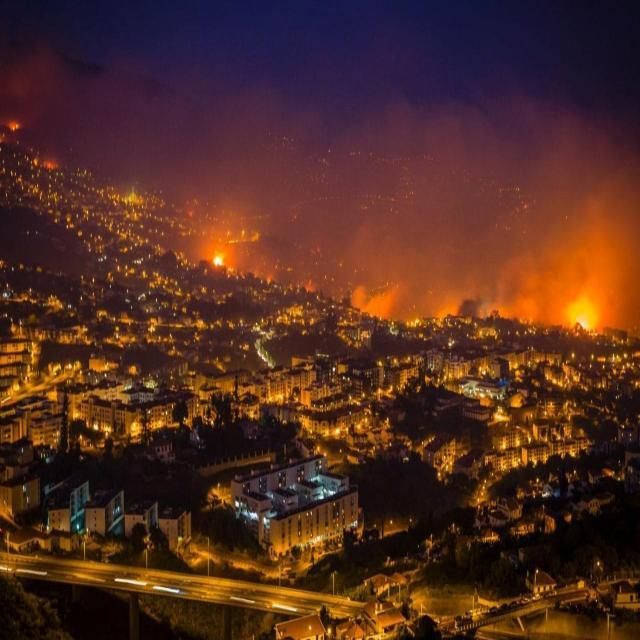Fire: (572, 309, 602, 342), (210, 245, 230, 272)
Smoke: (6, 14, 636, 321)
